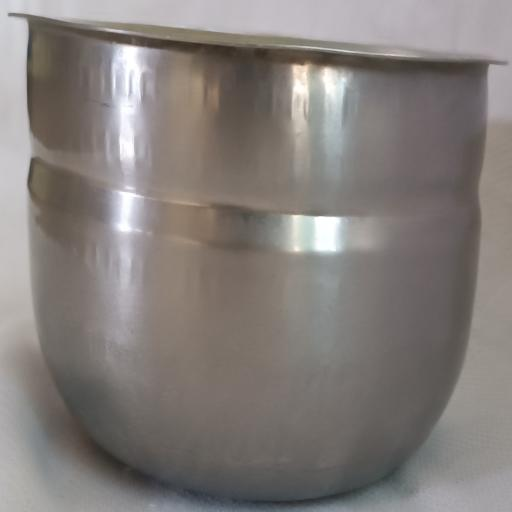vessel: (17, 15, 495, 500)
